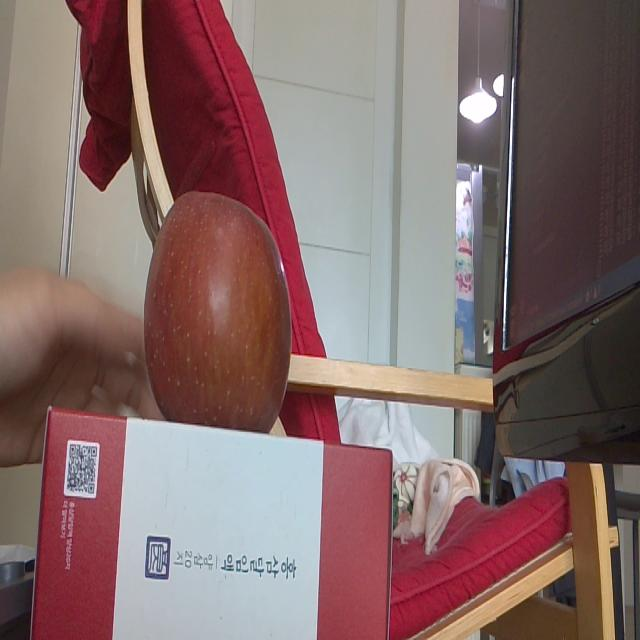apple: (144, 186, 293, 437)
